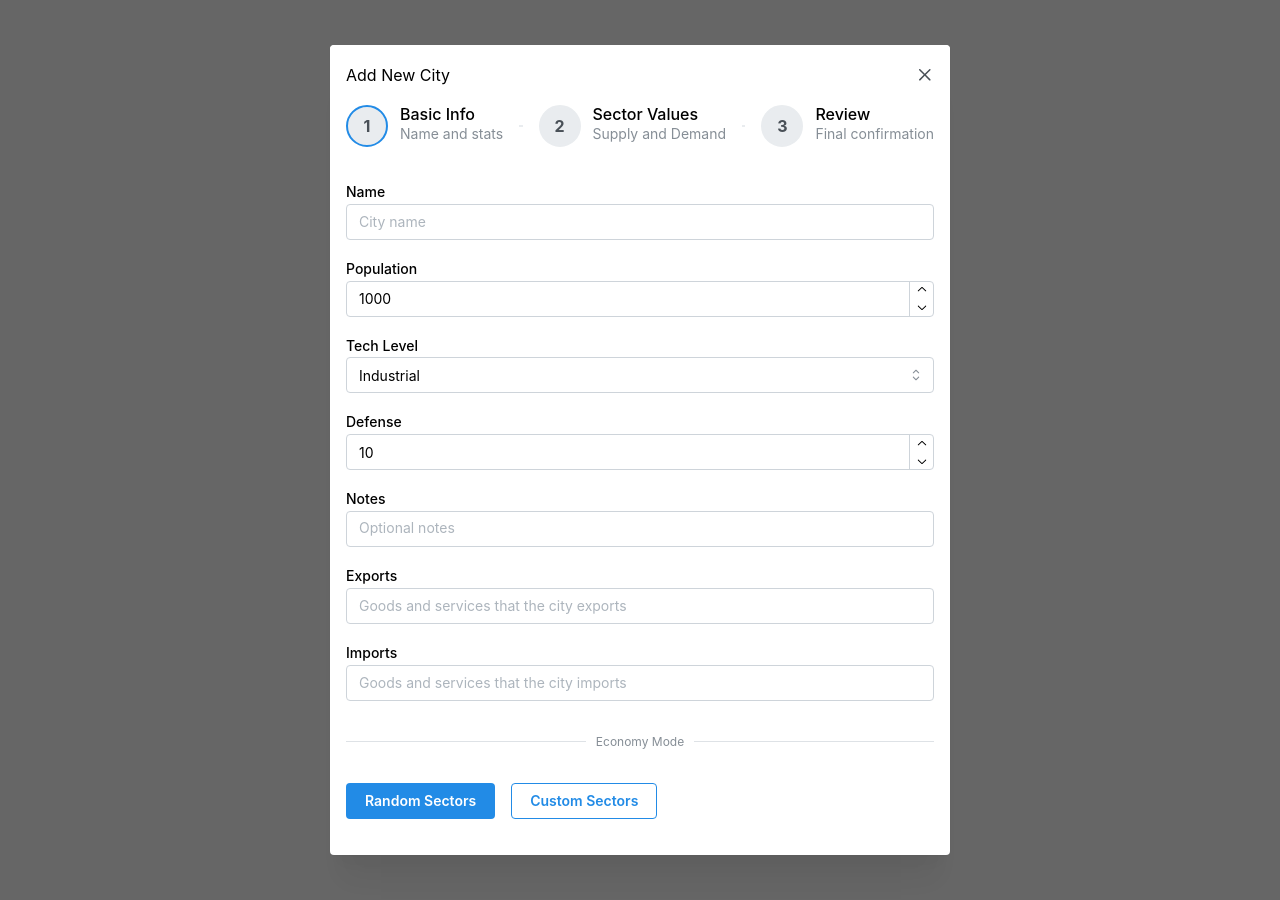
it: AddCityWizard › shows pre-generated sector values on Sector Values step in random mode
In the field labelled "Name": x=640, y=222 [346,204,934,240], type "Random City"
(page scrolled)
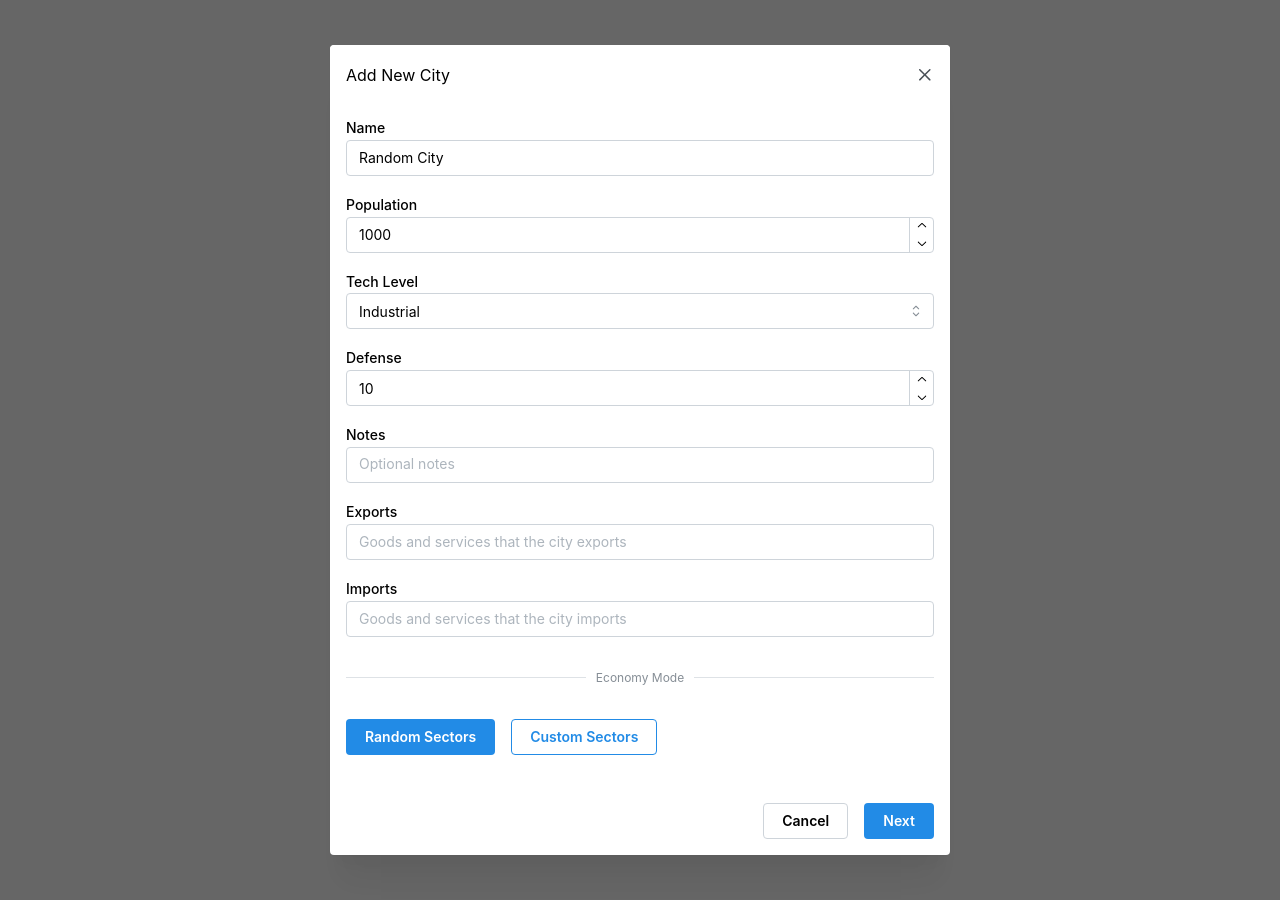
Click the button "Next": x=899, y=821 [864,803,934,839]
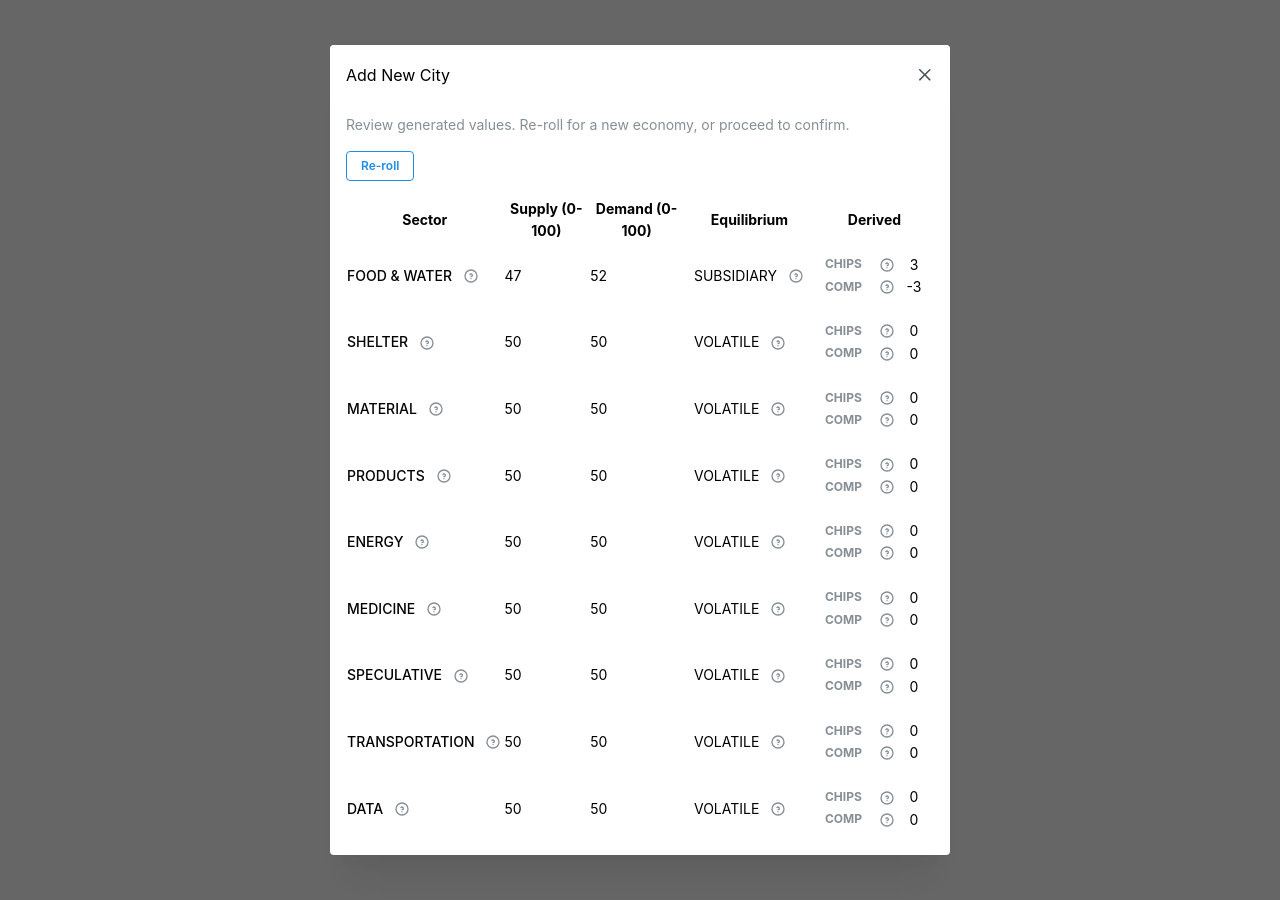
Check: the text "47" is shown, box [504,267,522,284]
Check: the text "52" is shown, box [590,267,607,284]
